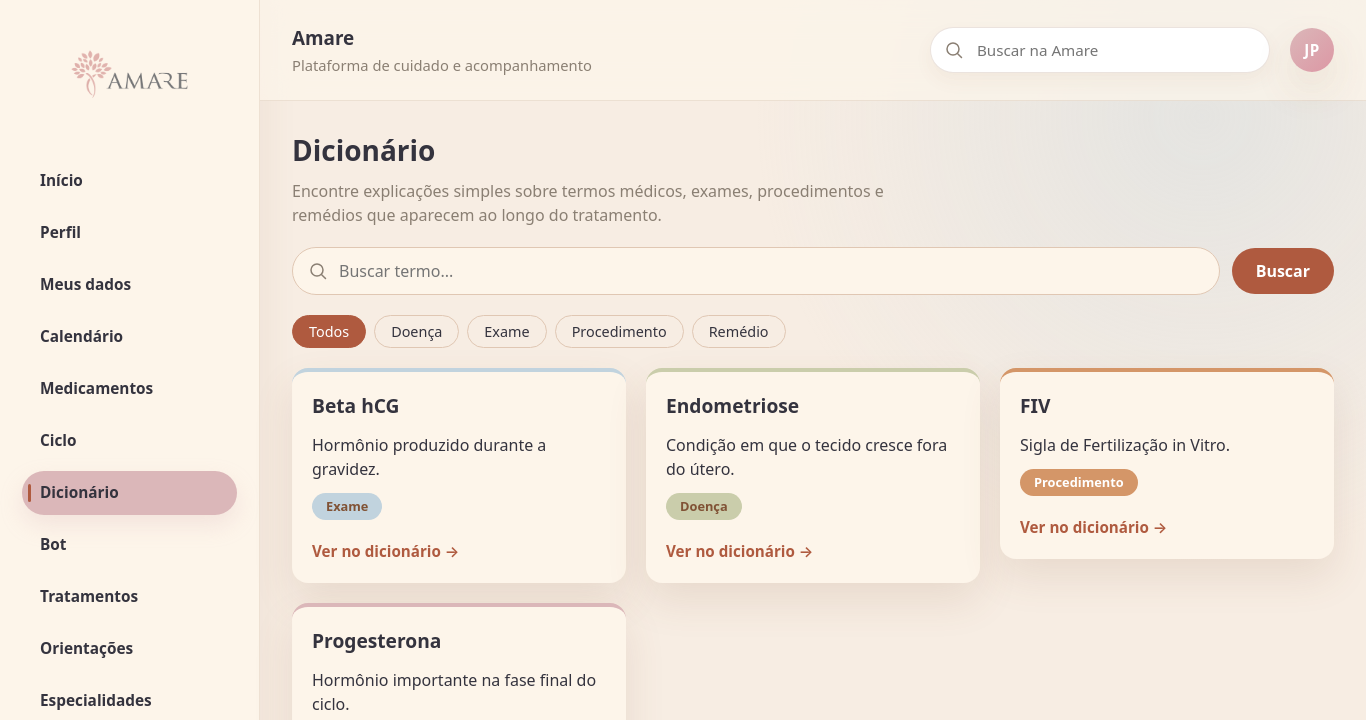
Test: Dicionário da Amare › filtra termos ao enviar uma busca
This screenshot has width=1366, height=720.
Type "fiv" into the search field with test id "dicionario-busca-input".
click(756, 271); type("fiv")  # box x1=292 y1=247 x2=1220 y2=295
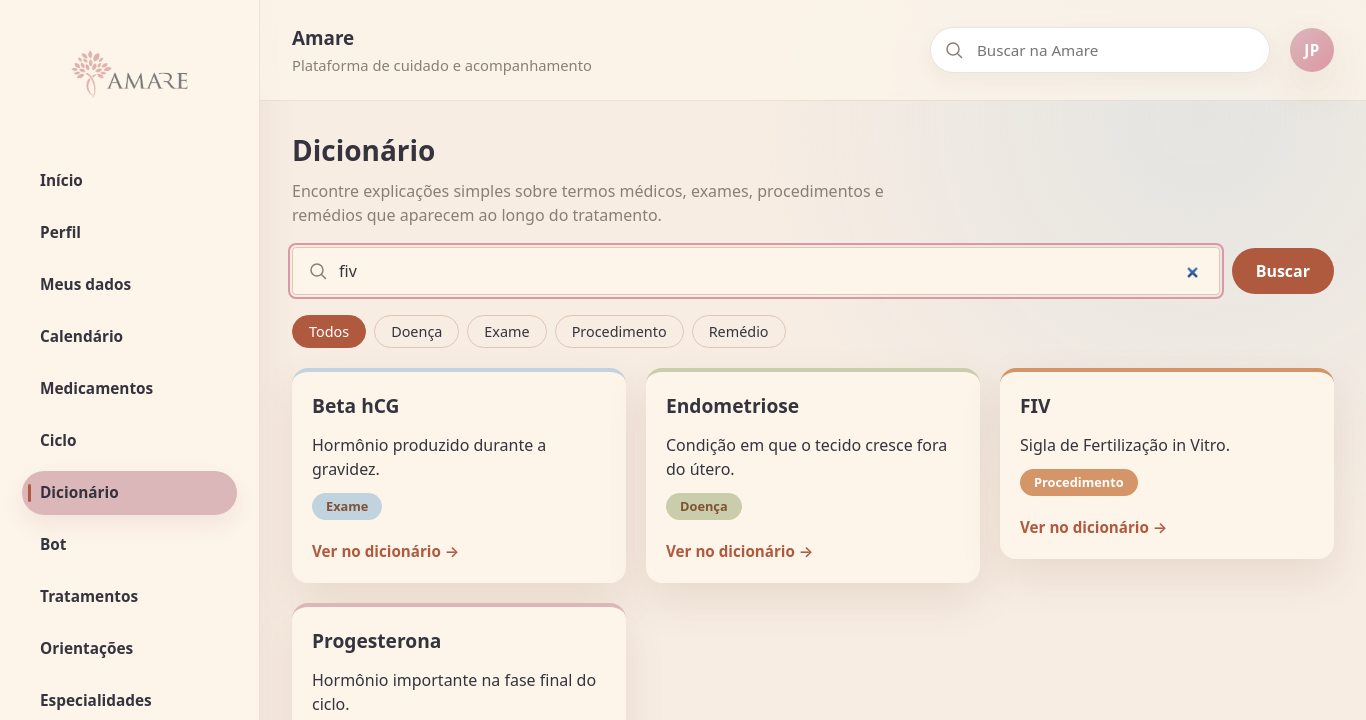
Click the button with test id "dicionario-busca-submit".
click(1283, 271)  # box x1=1232 y1=248 x2=1334 y2=294
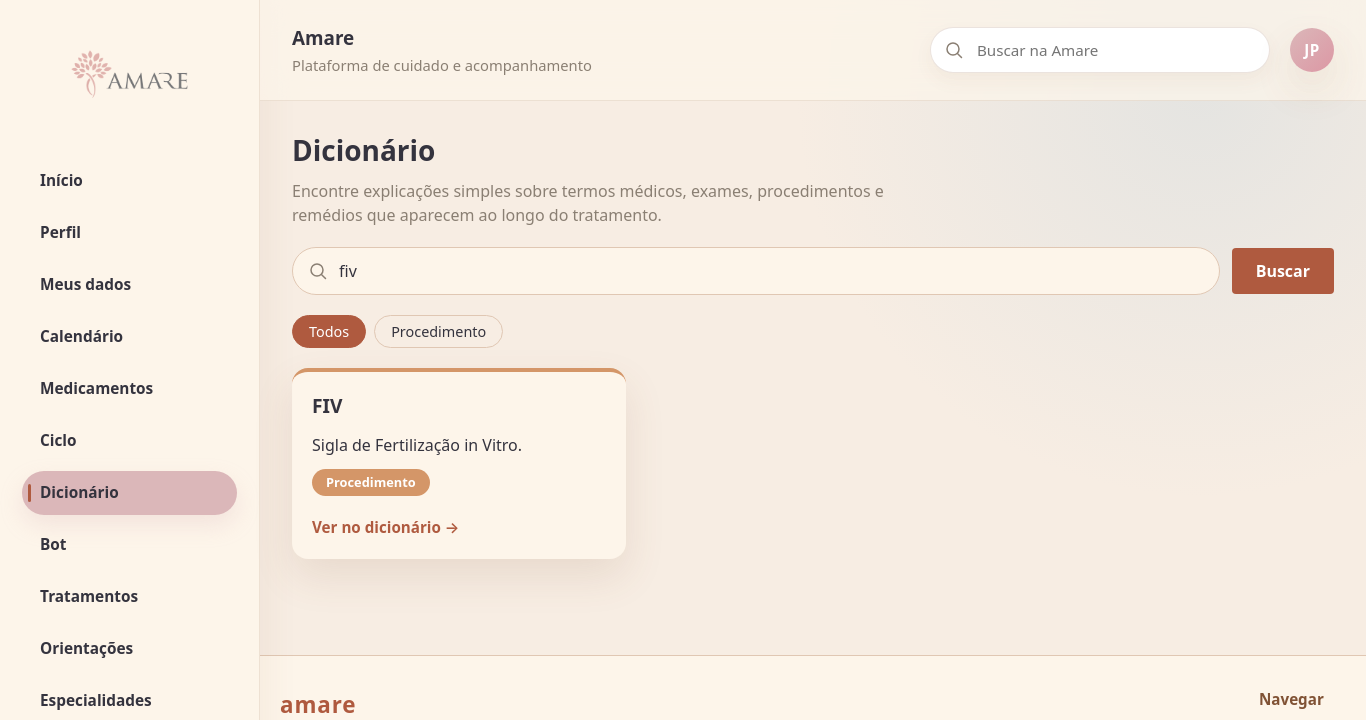
expect the heading with test id "dicionario-grid" reads "FIV": met, box x1=312 y1=392 x2=342 y2=419
expect the number of elements with test id "dicionario-card" is 1: met, box x1=292 y1=368 x2=626 y2=559
